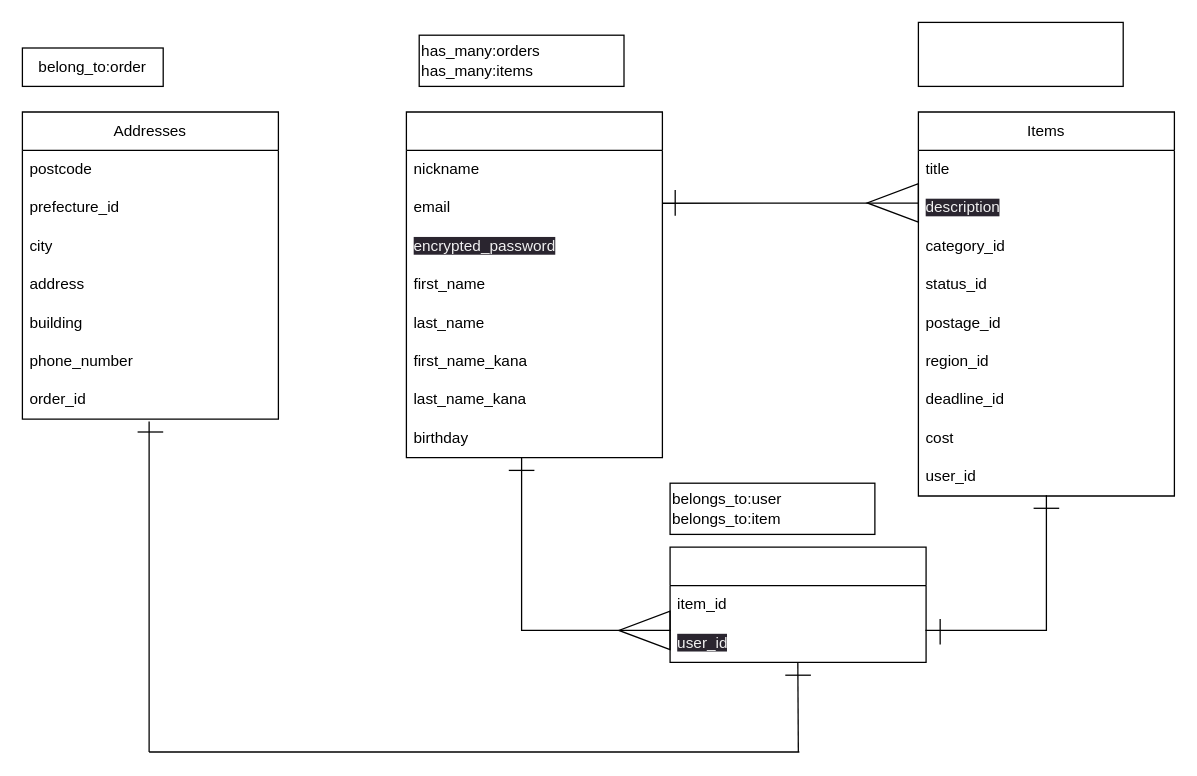
This 1197x776 diagram has some shape labels left out. Here are the shapes that lost their labels. From the top down, the box of each, then its label:
(917, 21, 1123, 86): belongs_to:user has_one:order
(405, 111, 662, 458): Users
(669, 546, 926, 662): Orders
